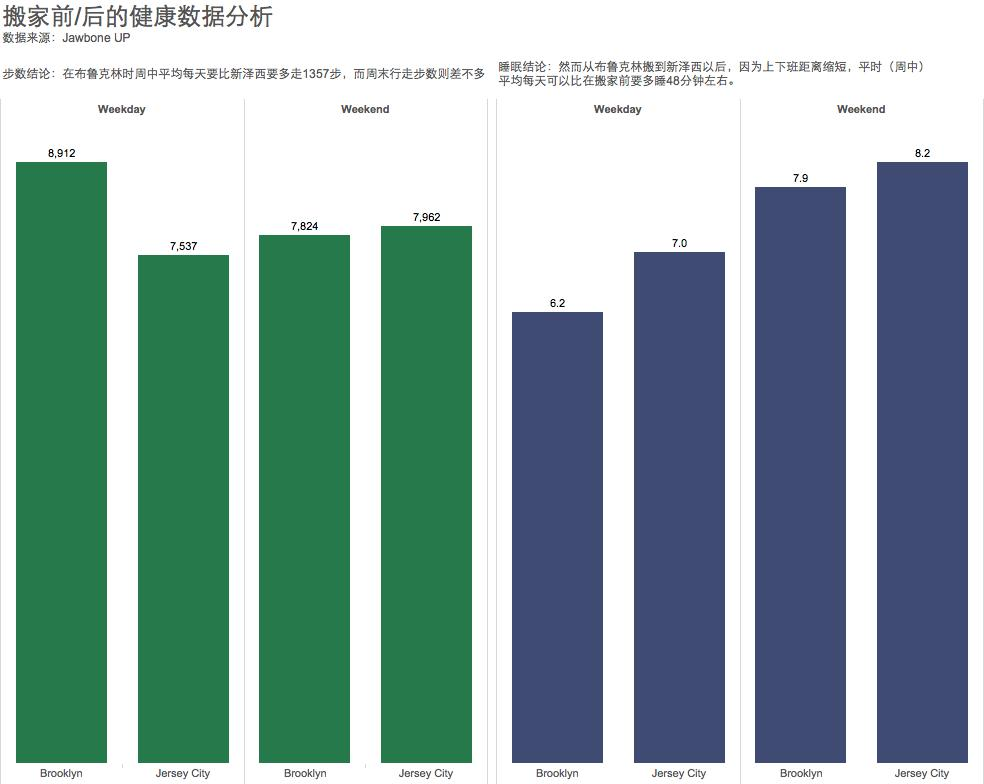

The dashboard page shown, as its layout file describes it:
{"tool":"tableau","page":{"name":"Dashboard 1","canvas":[1000,800],"ordinal":0},"visuals":[{"type":"text","box":[0,0,1000,60]},{"type":"text","box":[0,60,500,43]},{"type":"text","box":[500,60,500,43]},{"type":"text","box":[0,103,500,32]},{"type":"text","box":[500,103,500,32]},{"type":"worksheet","title":"Sheet 7","mark":"Automatic","rows":["TotalSteps"],"cols":["Weekday/Weekend","Set 1"],"box":[0,135,500,665]},{"type":"worksheet","title":"Sleep 3","mark":"Bar","rows":["Calculation_5830722231445727"],"cols":["Weekday","Set 1"],"box":[500,135,500,665]}]}

Visuals, with their boxes in screenshot pixels (x1, y1, x2, y2), scaled from the page's 1000x800 canvas onto the 984x784 screenshot:
text: x1=0, y1=0, x2=983, y2=59
text: x1=0, y1=59, x2=492, y2=101
text: x1=492, y1=59, x2=983, y2=101
text: x1=0, y1=101, x2=492, y2=132
text: x1=492, y1=101, x2=983, y2=132
"Sheet 7" worksheet: x1=0, y1=132, x2=492, y2=783
"Sleep 3" worksheet (Bar marks): x1=492, y1=132, x2=983, y2=783
